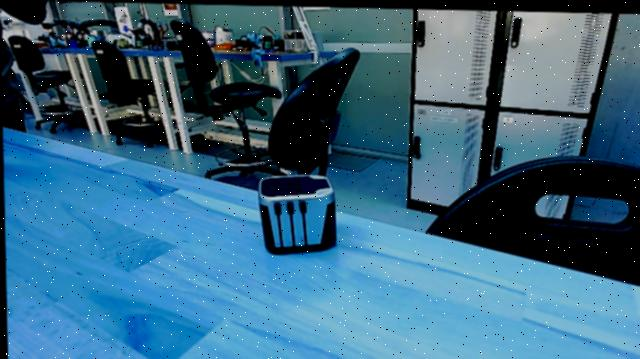adapter: (250, 171, 339, 263)
